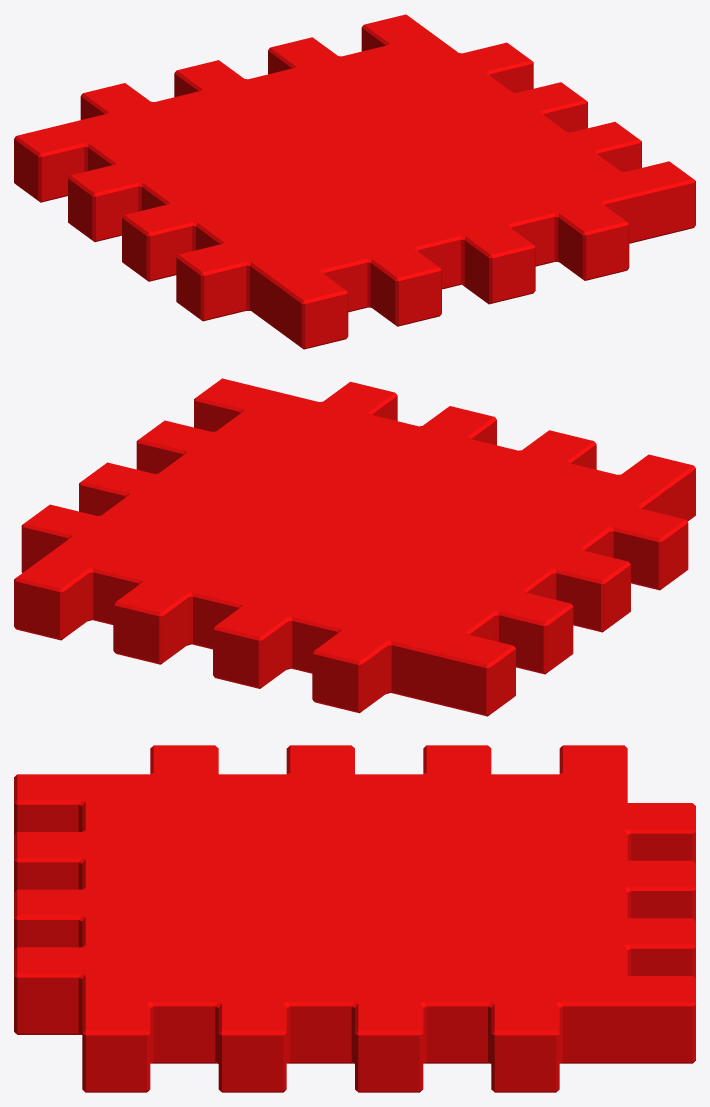
File: RedSquare.fbx
3 views of the same model, one above another, from view 1: azimuth 30°, elevation 25°; view 2: azimuth 150°, elevation 25°; view 3: azimuth 270°, elevation 25° (orthographic). The views are drawn at different scales.
Visible parts, largest first — view 1: BlueSquare; view 2: BlueSquare; view 3: BlueSquare.
Part boxes in pixels (bbox=[...]): BlueSquare: bbox=[14, 14, 695, 349]; BlueSquare: bbox=[14, 378, 695, 716]; BlueSquare: bbox=[14, 745, 695, 1092].
Bounding box in the file's own units: 5 × 0.4999 × 5.
